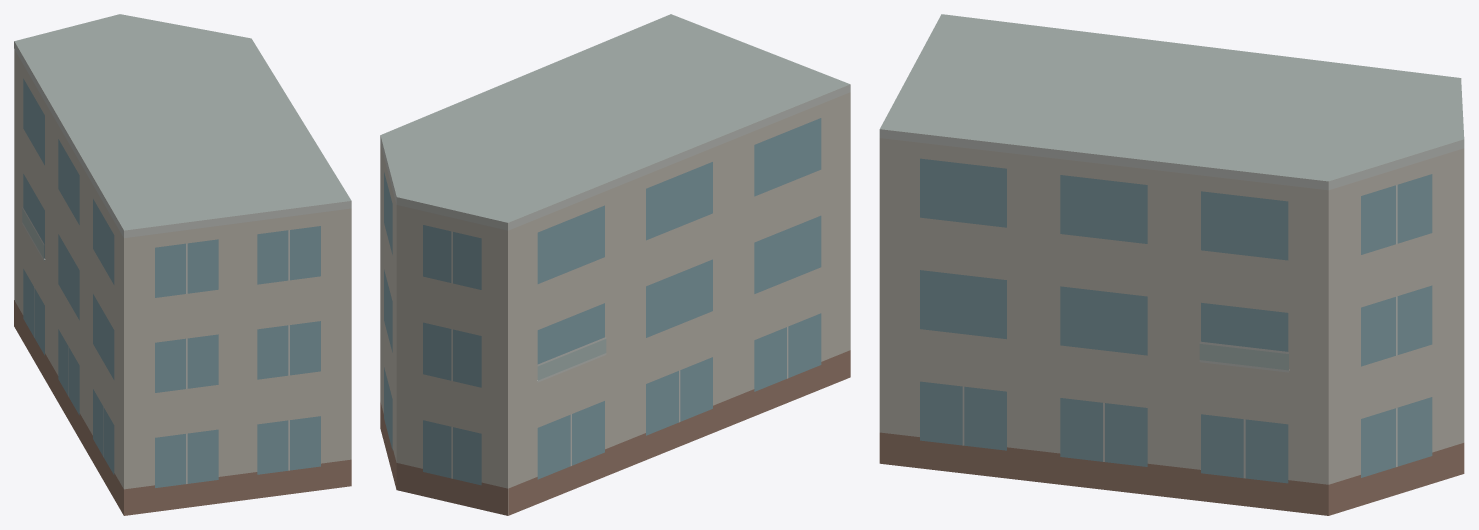
The model's file is survey-upis-32678454.glb.
3 views of the same model, side by side, from view 1: azimuth 30°, elevation 25°; view 2: azimuth 150°, elevation 25°; view 3: azimuth 270°, elevation 25° (orthographic). The views are drawn at different scales.
Visible parts, largest first — view 1: survey-upis-32678454.tmp; view 2: survey-upis-32678454.tmp; view 3: survey-upis-32678454.tmp.
Boxes of the visible parts, x1,y1,x2,y2 form: survey-upis-32678454.tmp: (14,14,351,515); survey-upis-32678454.tmp: (380,14,850,515); survey-upis-32678454.tmp: (879,14,1464,515).
Size of the model in its own units: 9.83 by 9.15 by 14.51.
